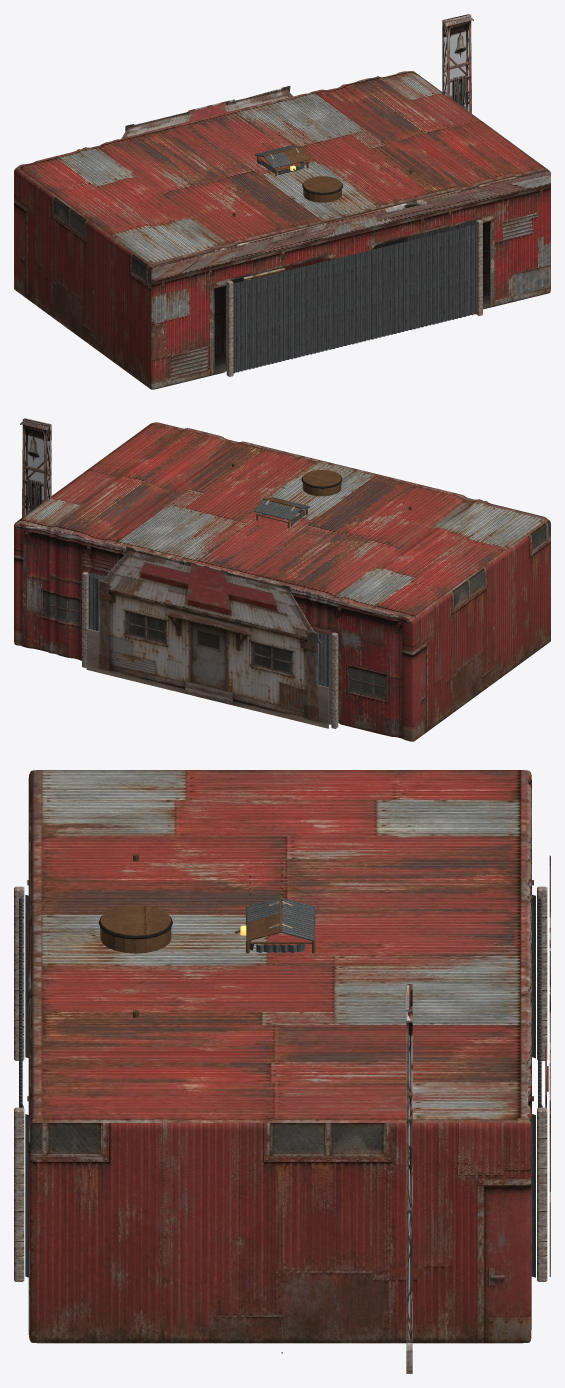
Rendered from safety.glb.
The picture shows the model from 3 angles, top to bottom: view 1: azimuth 30°, elevation 25°; view 2: azimuth 150°, elevation 25°; view 3: azimuth 270°, elevation 25°; orthographic projection. The views are drawn at different scales.
Visible parts, largest first — view 1: fire-station:body, clinic-white-tin-wall-1.001, fire-station:hose-tower-and-bell, clinic-photo-facade, clinic-water-tank, clinic-wall-post.001, clinic-wall-post.003; view 2: fire-station:body, clinic-photo-facade, fire-station:hose-tower-and-bell, clinic-white-tin-wall--1.001, clinic-water-tank, clinic-wall-post, clinic-wall-post.002; view 3: fire-station:body, clinic-water-tank, fire-station:hose-tower-and-bell, clinic-wall-post.002, clinic-wall-post.003, clinic-white-tin-wall-1, clinic-wall-post.001, clinic-wall-post, clinic-white-tin-wall--1, clinic-white-tin-wall--1.001, clinic-white-tin-wall-1.001, clinic-photo-facade.
Boxes of the visible parts, x1,y1,x2,y2 form: fire-station:body: [14, 71, 550, 389]; clinic-white-tin-wall-1.001: [233, 224, 476, 373]; fire-station:hose-tower-and-bell: [442, 14, 473, 113]; clinic-photo-facade: [121, 86, 292, 138]; clinic-water-tank: [303, 176, 341, 202]; clinic-wall-post.001: [226, 280, 233, 376]; clinic-wall-post.003: [476, 219, 482, 315]; fire-station:body: [14, 422, 550, 741]; clinic-photo-facade: [86, 546, 328, 728]; fire-station:hose-tower-and-bell: [20, 418, 51, 517]; clinic-white-tin-wall--1.001: [89, 576, 331, 724]; clinic-water-tank: [302, 470, 341, 496]; clinic-wall-post: [331, 632, 338, 728]; clinic-wall-post.002: [82, 571, 88, 667]; fire-station:body: [28, 770, 531, 1343]; clinic-water-tank: [100, 905, 171, 953]; fire-station:hose-tower-and-bell: [406, 984, 412, 1373]; clinic-wall-post.002: [537, 1107, 547, 1281]; clinic-wall-post.003: [14, 1107, 24, 1281]; clinic-white-tin-wall-1: [25, 1114, 535, 1277]; clinic-wall-post.001: [14, 886, 24, 1060]; clinic-wall-post: [537, 886, 547, 1060]; clinic-white-tin-wall--1: [25, 895, 535, 1058]; clinic-white-tin-wall--1.001: [538, 897, 542, 1107]; clinic-white-tin-wall-1.001: [19, 897, 23, 1107]; clinic-photo-facade: [549, 855, 550, 1276].
Bounding box in the file's own units: 22.64 × 9.88 × 13.35.
49 materials, 46 textured.
